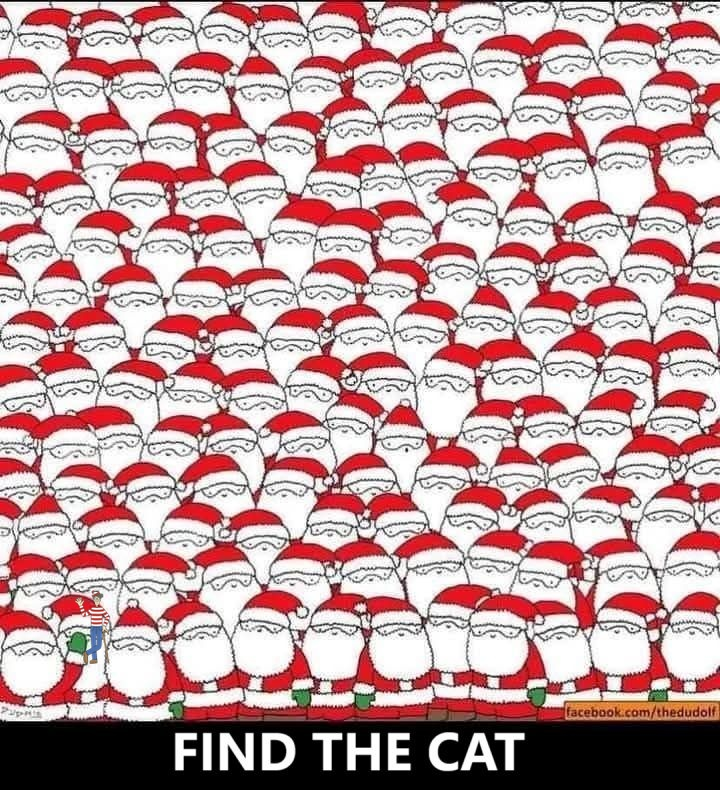waldo: (75, 590, 110, 664)
